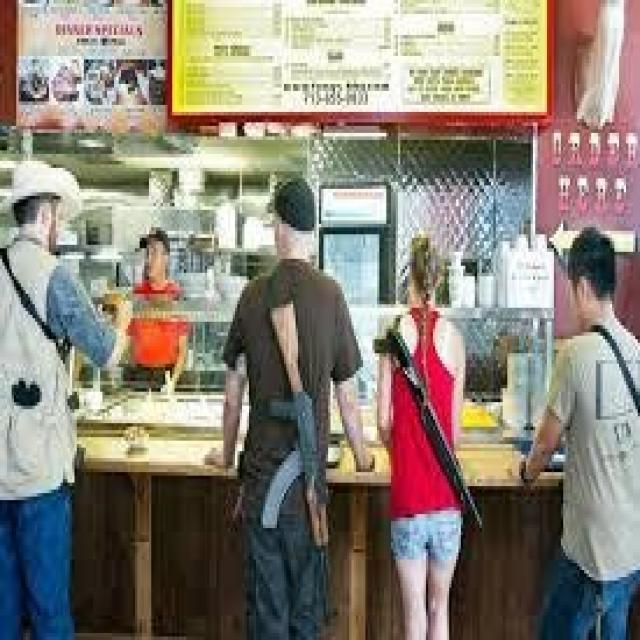gun: (259, 298, 335, 618), (373, 322, 483, 535)
